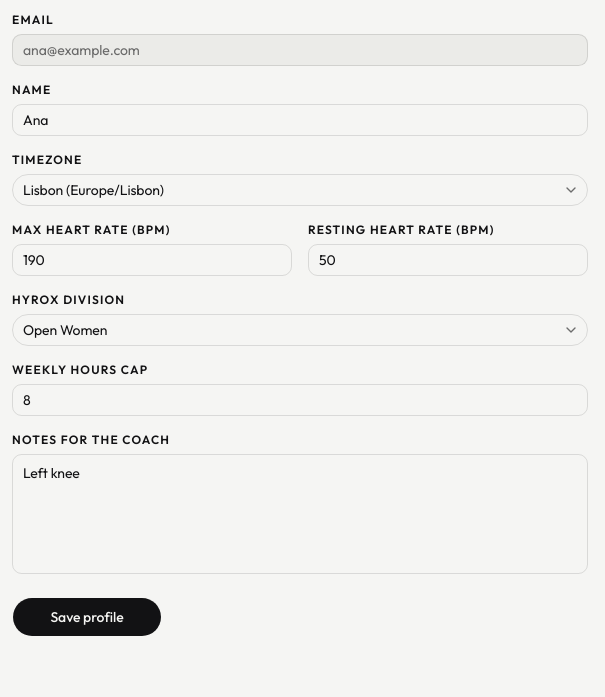
Scenario: ProfileForm › shows field errors and does not submit when invalid
This screenshot has width=605, height=697.
Step 1. Clear the field with test id "profile-name" → (300, 120), box [12, 104, 588, 136]
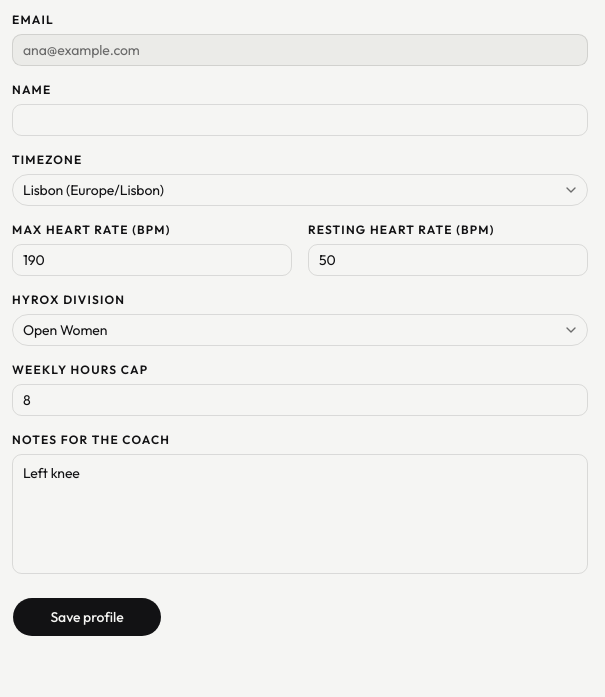
Step 2. Replace the text in the field with test id "profile-max-hr" with "241" → (152, 260), box [12, 244, 292, 276]
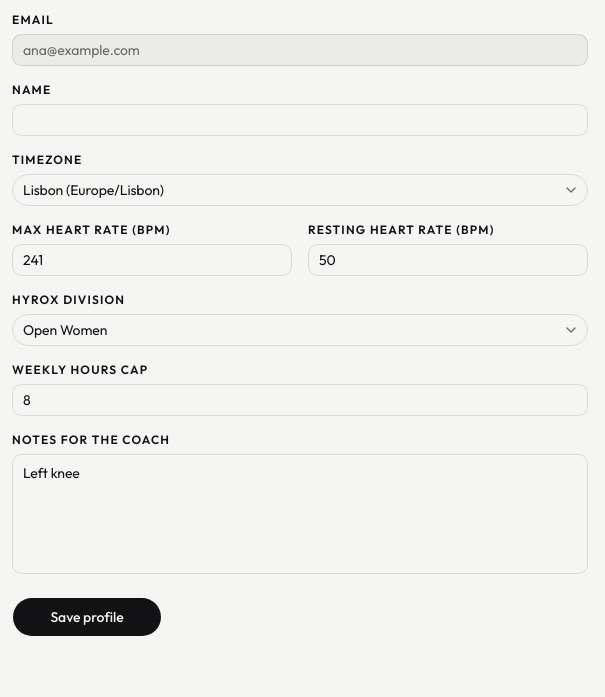
Step 3. Click the button with test id "profile-submit" → (87, 616), box [12, 596, 162, 636]
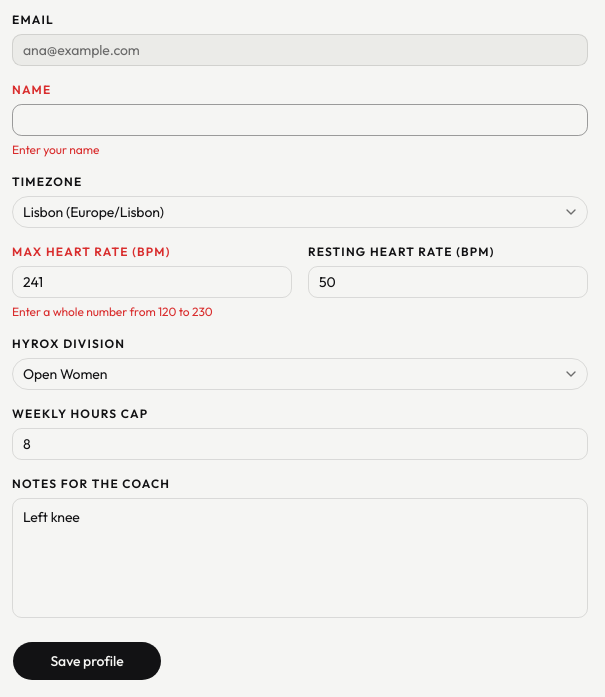
Check: the text "Enter your name" is shown, box [12, 142, 99, 157]
Check: the text "Enter a whole number from 120 to 230" is shown, box [12, 304, 213, 319]
